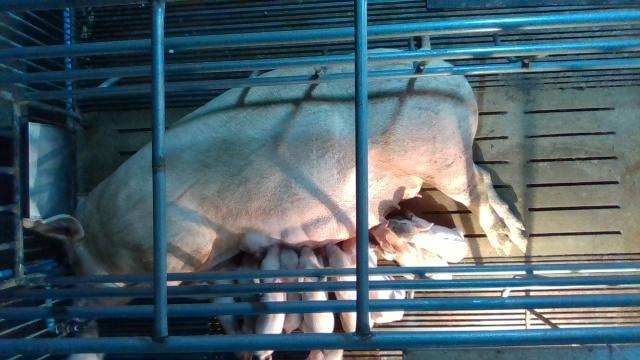piglet: (369, 222, 453, 280), (385, 205, 466, 264), (325, 244, 374, 333), (253, 244, 286, 360), (299, 246, 334, 333), (210, 269, 238, 335), (280, 249, 300, 334), (237, 257, 258, 333)
sow-sleep-lactate: (25, 48, 532, 356)
